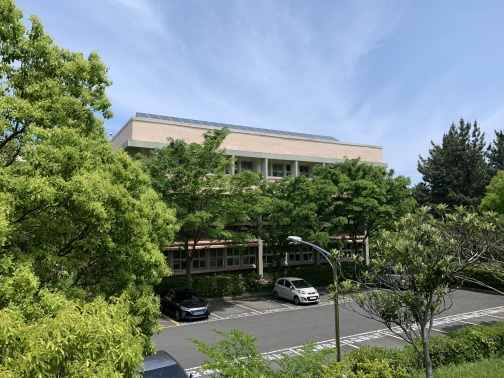College Of Education: (113, 99, 391, 306)
